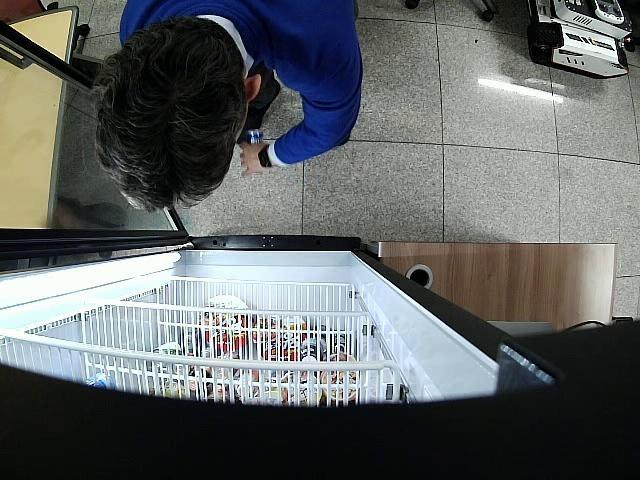16_hot6: (245, 128, 262, 149)
